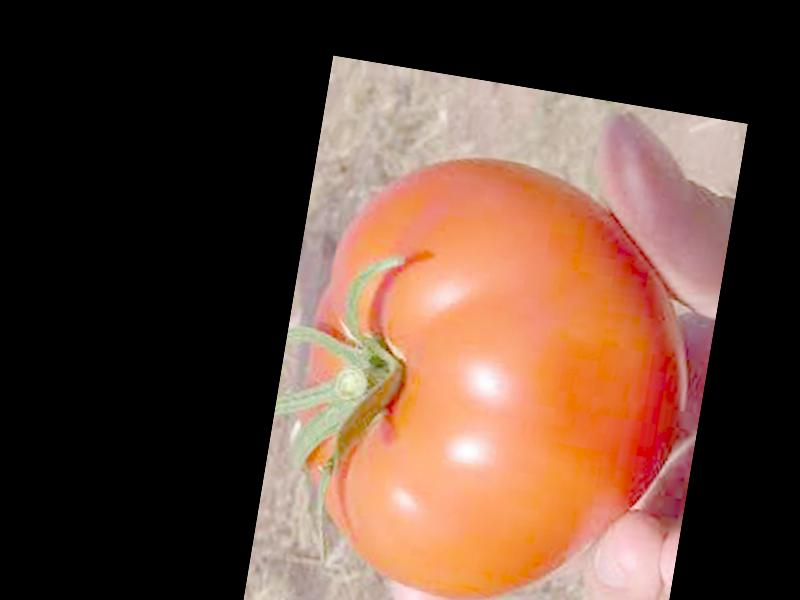Tomato: (275, 141, 713, 600)
